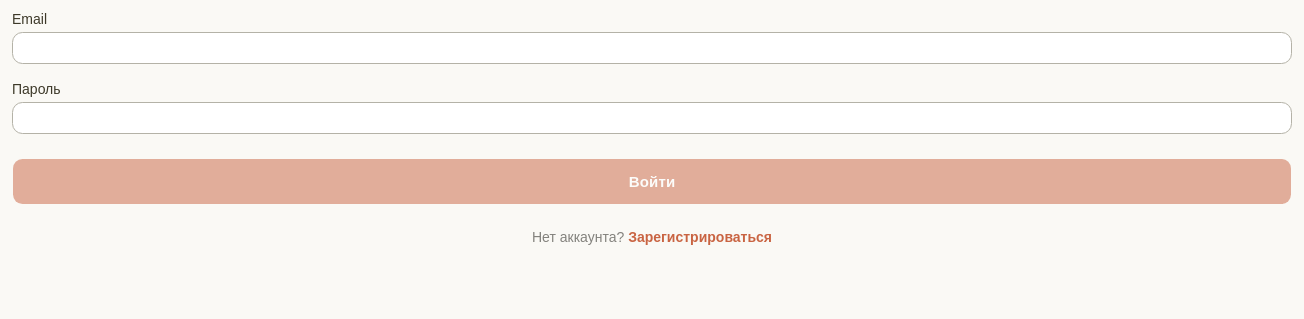
Test: LoginForm › при неверном пароле показывает «Неверный Email или пароль» и не редиректит
Type "ivan@formcraft.dev" into the field labelled "Email" at (652, 48), box [12,32,1292,64]
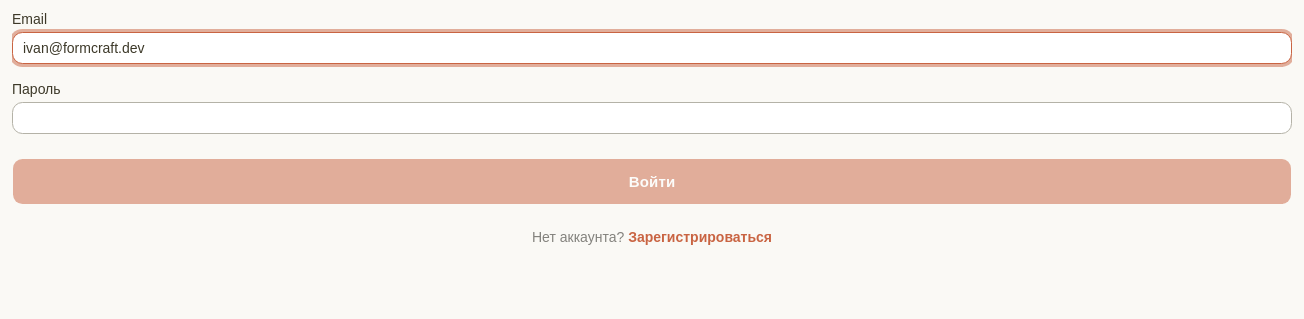
Type "wrong-password" into the password field labelled "Пароль" at (652, 118), box [12,102,1292,134]
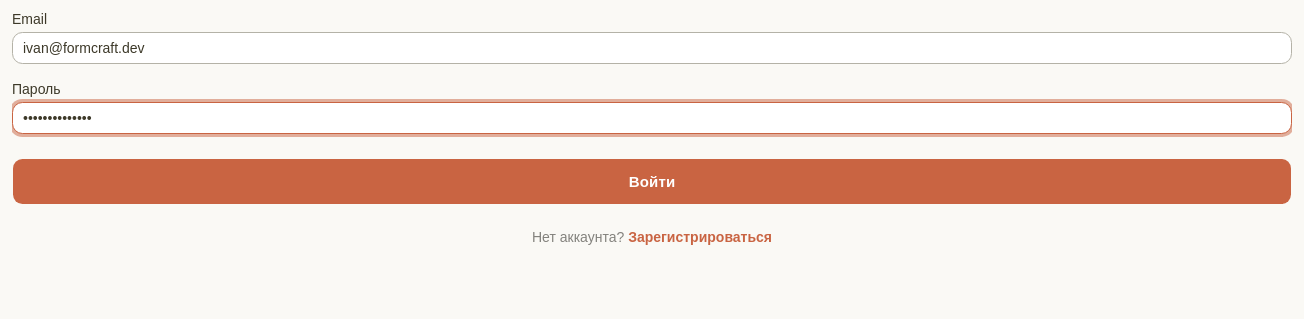
Click the button "Войти" at (652, 181), box [12,158,1292,205]
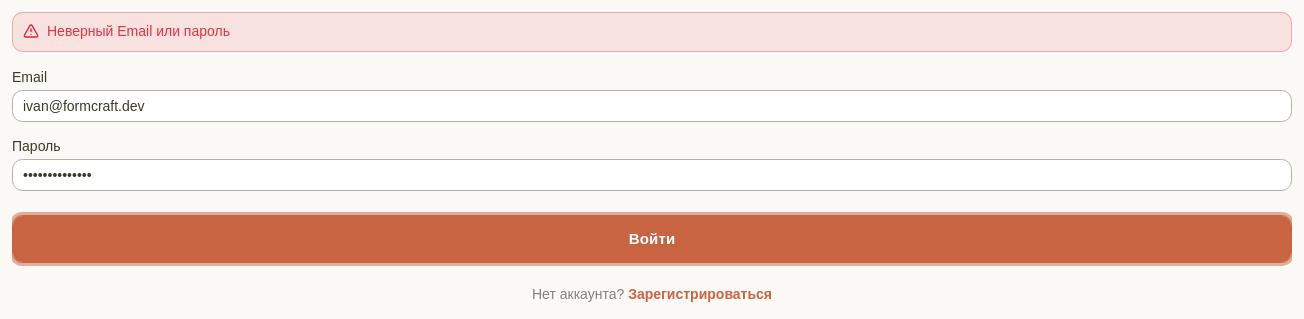
Check: the text "Неверный Email или пароль" is shown, box [47,23,230,39]
